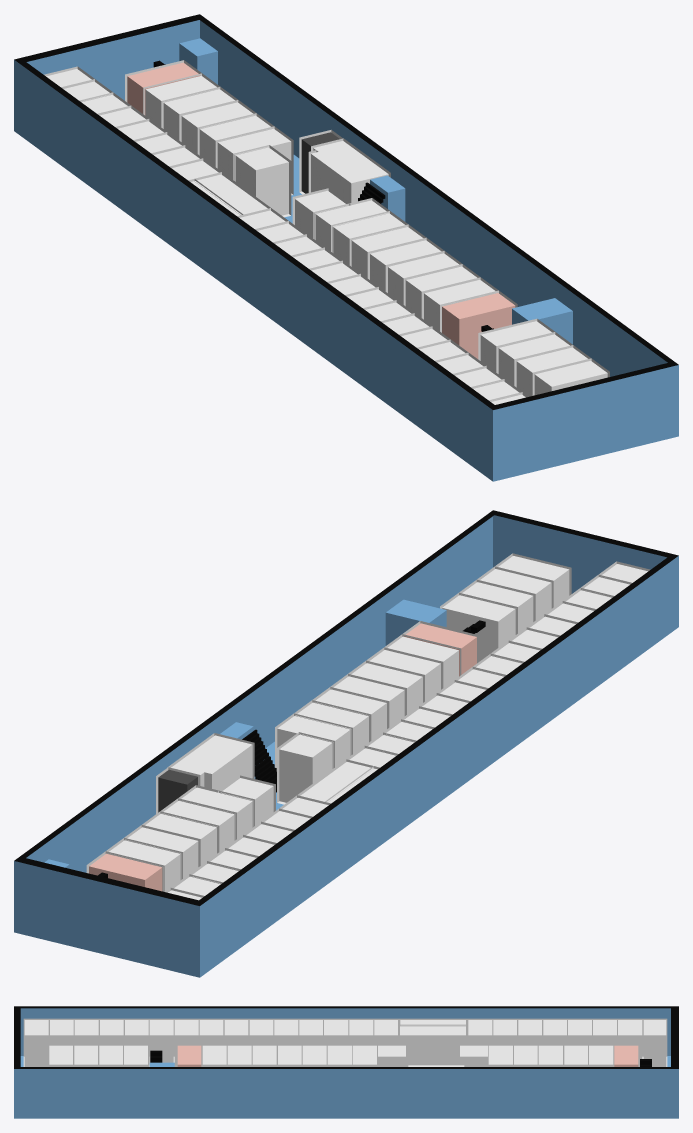
3 views of the same model, one above another, from view 1: azimuth 30°, elevation 25°; view 2: azimuth 150°, elevation 25°; view 3: azimuth 270°, elevation 25° (orthographic). The views are drawn at different scales.
Parts seen in each view (by area): view 1: object, room_8_4_43, トイレ_8_4_2, room_8_4_44, room_8_4_26, トイレ_8_4_1, room_8_4_24, room_8_4_38, room_8_4_28, room_8_4_30, room_8_4_39, room_8_4_36 (+12 smaller); view 2: object, room_8_4_43, room_8_4_40, room_8_4_39, room_8_4_25, トイレ_8_4_1, room_8_4_30, room_8_4_37, room_8_4_24, room_8_4_26, room_8_4_21, room_8_4_38 (+13 smaller); view 3: object, room_8_4_42, object_line, room_8_4_31, room_8_4_19, room_8_4_2, room_8_4_3, room_8_4_18, room_8_4_40, object_line.023, room_8_4_33, room_8_4_4 (+36 smaller).
Part boxes in pixels (x1,y1,x2,y2): object: (14, 14, 678, 481); room_8_4_43: (311, 141, 388, 203); トイレ_8_4_2: (442, 293, 515, 358); room_8_4_44: (235, 147, 288, 215); room_8_4_26: (217, 128, 291, 181); トイレ_8_4_1: (127, 62, 200, 115); room_8_4_24: (333, 213, 407, 266); room_8_4_38: (498, 334, 571, 387); room_8_4_28: (181, 102, 255, 155); room_8_4_30: (145, 76, 218, 128); room_8_4_39: (480, 321, 553, 373); room_8_4_36: (534, 361, 607, 395); object: (14, 510, 678, 977); room_8_4_43: (171, 735, 252, 790); room_8_4_40: (279, 734, 332, 802); room_8_4_39: (442, 595, 515, 661); room_8_4_25: (277, 716, 350, 768); トイレ_8_4_1: (89, 853, 162, 891); room_8_4_30: (107, 840, 180, 891); room_8_4_37: (478, 569, 551, 621); room_8_4_24: (295, 702, 368, 755); room_8_4_26: (179, 787, 252, 840); room_8_4_21: (349, 663, 422, 715); room_8_4_38: (460, 582, 533, 634); object: (14, 1006, 678, 1118); room_8_4_42: (400, 1026, 465, 1066); object_line: (399, 1024, 467, 1063); room_8_4_31: (24, 1020, 48, 1066); room_8_4_19: (643, 1020, 666, 1066); room_8_4_2: (149, 1020, 173, 1062); room_8_4_3: (174, 1020, 198, 1066); room_8_4_18: (618, 1020, 642, 1066); room_8_4_40: (378, 1045, 405, 1066); object_line.023: (399, 1018, 466, 1026); room_8_4_33: (74, 1020, 98, 1043); room_8_4_4: (199, 1020, 223, 1043).
Size of the model in its own units: 0.5768 by 0.2149 by 2.57.
